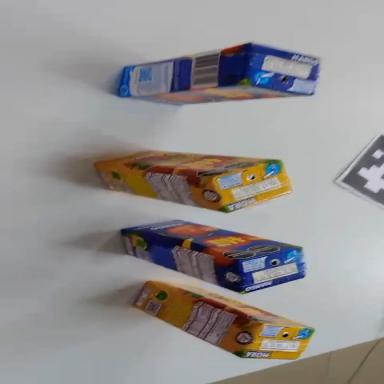HIT-MANGO: (114, 209, 311, 305), (114, 38, 322, 109)
HIT-MORA: (129, 267, 314, 378), (92, 147, 293, 217)
cara_F: (120, 207, 302, 276), (148, 271, 314, 342), (91, 146, 280, 184), (126, 79, 308, 109)
